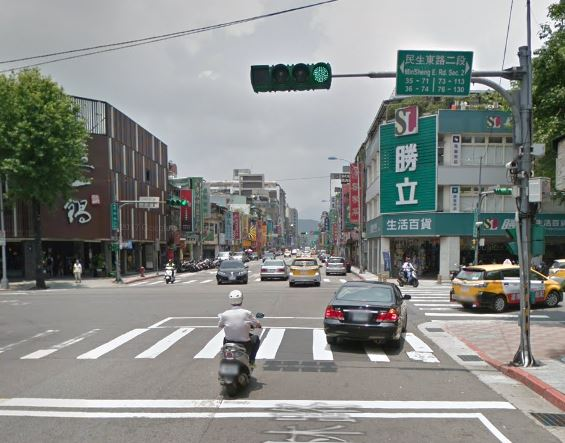Traffic_light_green: (249, 63, 333, 90)
car: (320, 276, 414, 354), (286, 254, 324, 291), (214, 257, 251, 284)
motorcycle: (214, 307, 269, 397)
